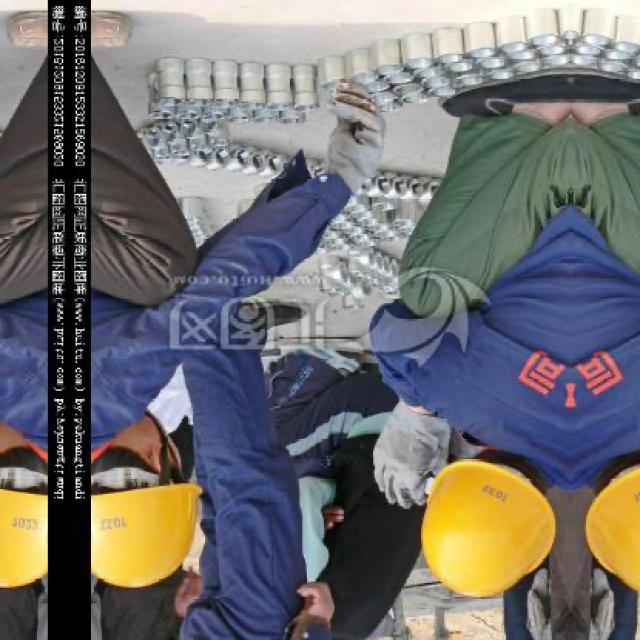con casco: (88, 403, 232, 609), (419, 429, 566, 595), (0, 396, 44, 590)
